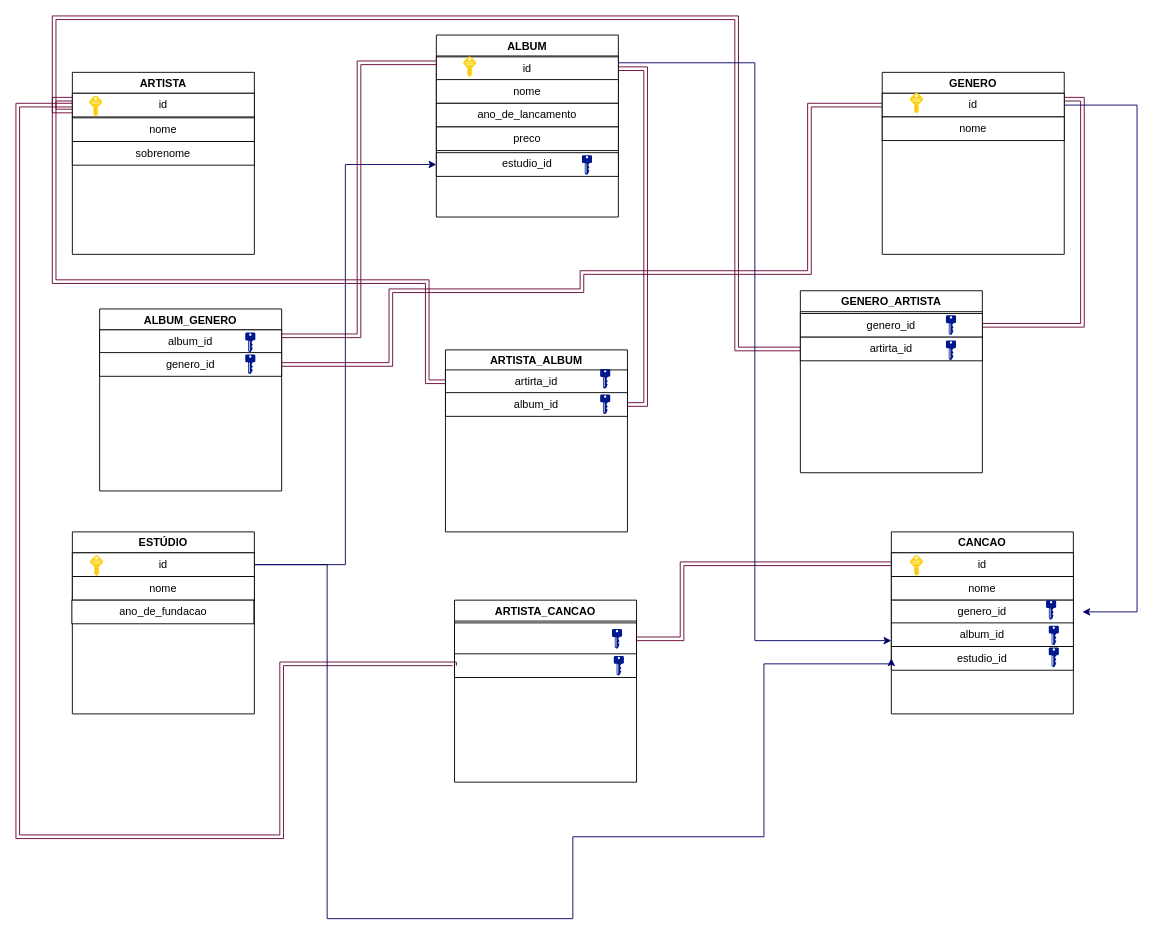
Image size: 1160x942. Some labels were removed from this diagram. The centre of each missing label's shape, as x and y in pixels:
artista_id: the point at 545,665
cancao_id: the point at 545,638
